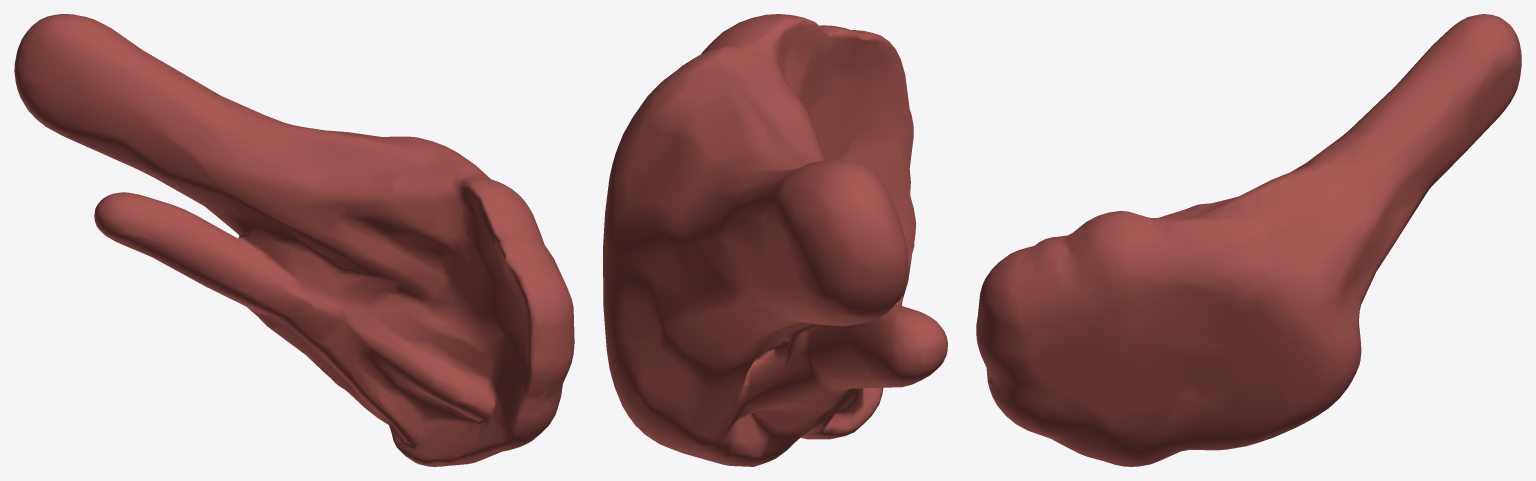
File: FMA7266.glb
3 views of the same model, side by side, from view 1: azimuth 30°, elevation 25°; view 2: azimuth 150°, elevation 25°; view 3: azimuth 270°, elevation 25° (orthographic). The views are drawn at different scales.
Visible parts, largest first — view 1: FMA7266; view 2: FMA7266; view 3: FMA7266.
Part boxes in pixels (<box>): FMA7266: <box>14,14,574,466</box>; FMA7266: <box>603,14,947,466</box>; FMA7266: <box>976,14,1521,466</box>.
Size of the model in its own units: 0.0285 by 0.0301 by 0.0424.
